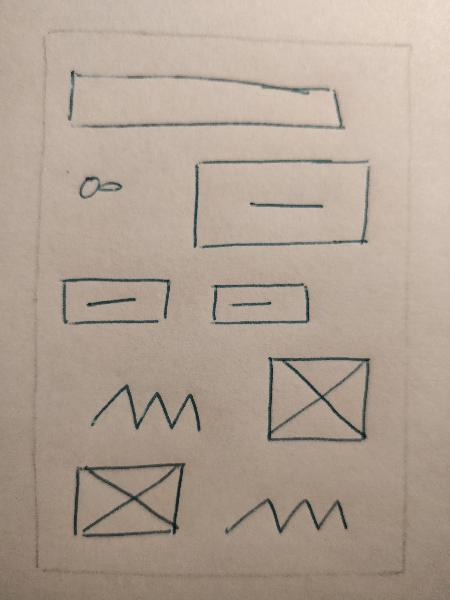button: (184, 156, 381, 253), (53, 269, 176, 333), (200, 273, 322, 337)
image: (253, 349, 381, 448), (68, 459, 190, 546)
switch: (68, 160, 131, 210)
text: (214, 487, 364, 545), (72, 376, 209, 439)
text_input: (57, 60, 352, 143)
